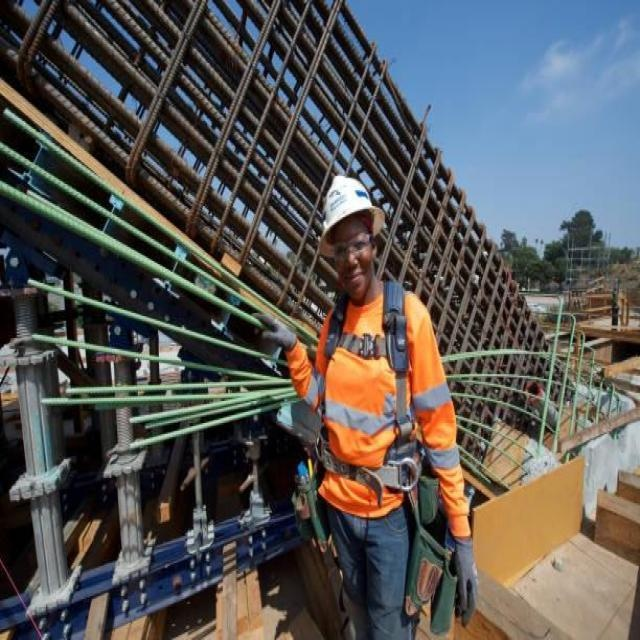Arnes_seguridad: (315, 280, 417, 499)
